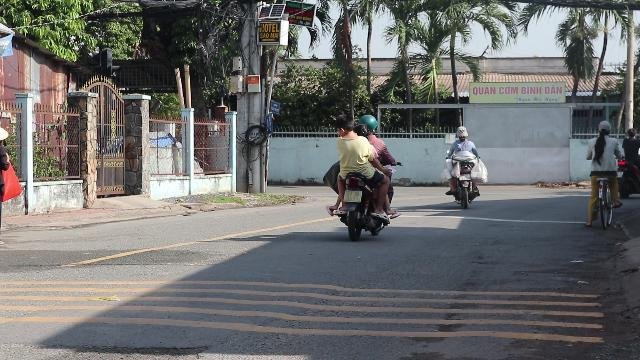helmet: (356, 114, 378, 136)
licenseplate: (344, 190, 361, 201)
motorcyclist: (323, 112, 397, 240)
nohelmet: (334, 114, 354, 134)
